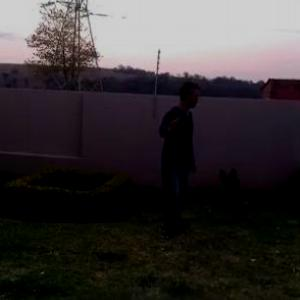takeoff-hand: (162, 107, 185, 139)
